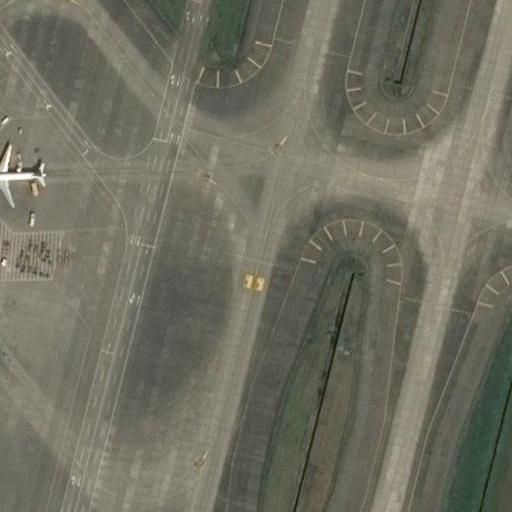Aircraft: (0, 143, 48, 206)
